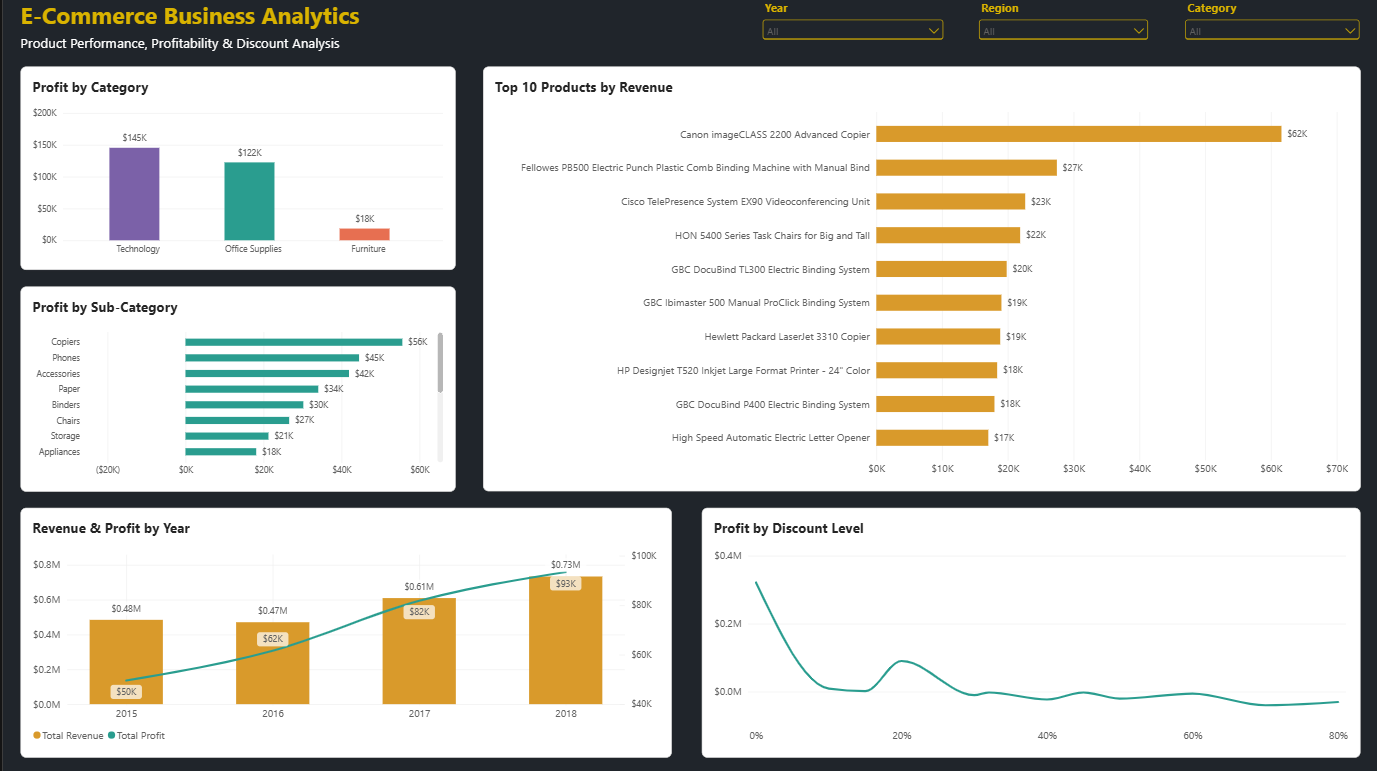

This screenshot's page, from the dashboard's own definition file:
{"tool":"powerbi","page":{"name":"Product & Profitability","canvas":[1920,1080],"ordinal":1},"visuals":[{"type":"clusteredBarChart","title":"Top 10 Products by Revenue","fields":{"Category":["Sales.Product Name"],"Y":["Sales.Total Revenue"]},"box":[669.8,94.2,1224.4,593],"z":0},{"type":"clusteredBarChart","title":"Profit by Sub-Category","fields":{"Category":["Sales.Sub-Category"],"Y":["Sales.Total Profit"]},"box":[24.4,401.2,607,286],"z":1000},{"type":"clusteredColumnChart","title":"Profit by Category","fields":{"Category":["Sales.Category"],"Y":["Sales.Total Profit"]},"box":[24.4,94.2,607,284.3],"z":2000},{"type":"lineChart","title":"Profit by Discount Level","fields":{"Y":["Sales.Total Profit"],"Category":["Sales.Discount"]},"box":[975,709.9,919.2,348.8],"z":3000},{"type":"lineClusteredColumnComboChart","title":"Revenue & Profit by Year","fields":{"Category":["Sales.Order Date.Variation.Date Hierarchy.Year"],"Y":["Sales.Total Revenue"],"Y2":["Sales.Total Profit"]},"box":[24.4,709.9,908.7,348.8],"z":4000},{"type":"textbox","box":[24.4,0,493.6,48.8],"z":5000},{"type":"textbox","box":[24.4,48.8,493.6,26.2],"z":6000},{"type":"slicer","fields":{"Values":["Sales.Order Date.Variation.Date Hierarchy.Year"]},"box":[1055.2,0,261.6,76.7],"z":7000},{"type":"slicer","fields":{"Values":["Sales.Region"]},"box":[1357.9,0,245.9,76.7],"z":8000},{"type":"slicer","fields":{"Values":["Sales.Category"]},"box":[1644.8,0,252.9,76.7],"z":9000}]}

Visuals, with their boxes in screenshot pixels (x1, y1, x2, y2), scaled from the page's 1920x1080 canvas onto the 1377x771 screenshot:
"Top 10 Products by Revenue" clusteredBarChart: 480/67/1358/491
"Profit by Sub-Category" clusteredBarChart: 17/286/453/491
"Profit by Category" clusteredColumnChart: 17/67/453/270
"Profit by Discount Level" lineChart: 699/507/1358/756
"Revenue & Profit by Year" lineClusteredColumnComboChart: 17/507/669/756
textbox: 17/0/372/35
textbox: 17/35/372/54
slicer - Sales.Order Date.Variation.Date Hierarchy.Year: 757/0/944/55
slicer - Sales.Region: 974/0/1150/55
slicer - Sales.Category: 1180/0/1361/55
